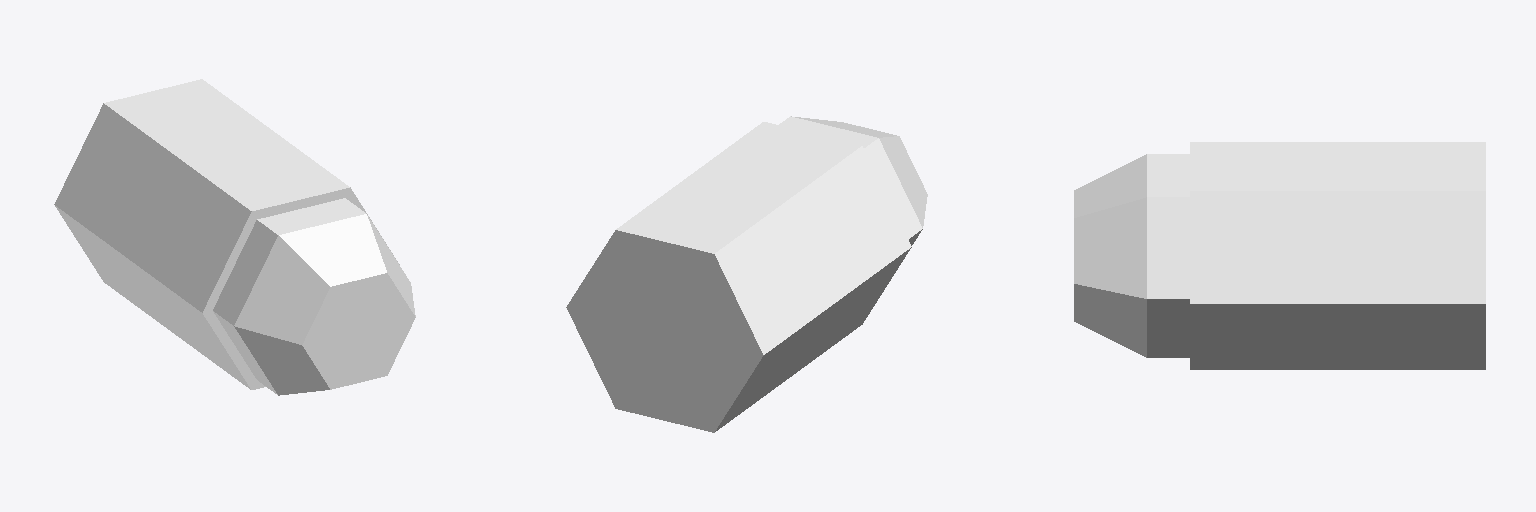
The model's file is lowpolybullet.obj.
3 views of the same model, side by side, from view 1: azimuth 30°, elevation 25°; view 2: azimuth 150°, elevation 25°; view 3: azimuth 270°, elevation 25° (orthographic).
Parts seen in each view (by area): view 1: Bullet; view 2: Bullet; view 3: Bullet.
Part boxes in pixels (left/top/right/bottom): Bullet: left=54, top=79, right=415, bottom=395; Bullet: left=566, top=116, right=927, bottom=432; Bullet: left=1074, top=142, right=1485, bottom=369.
Size of the model in its own units: 2 by 1.73 by 3.61.